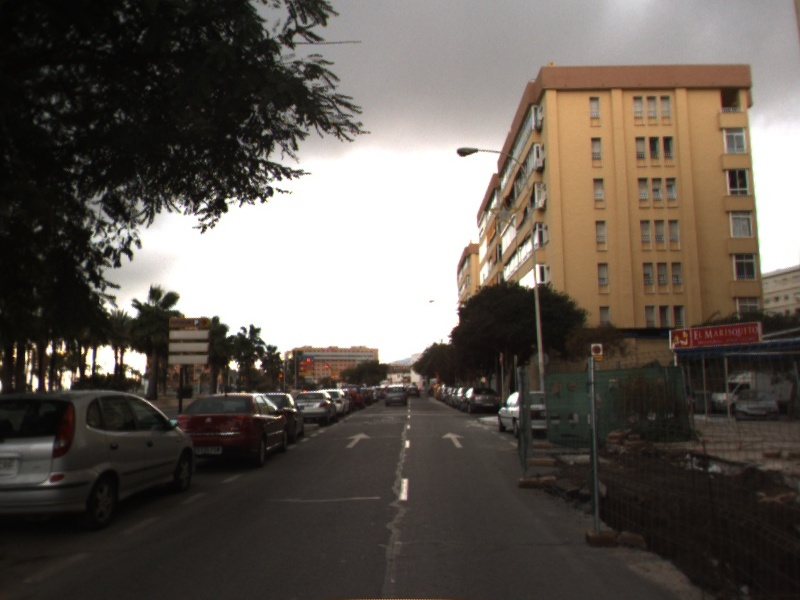STRAIGHT: (343, 431, 373, 449), (440, 431, 466, 450)
